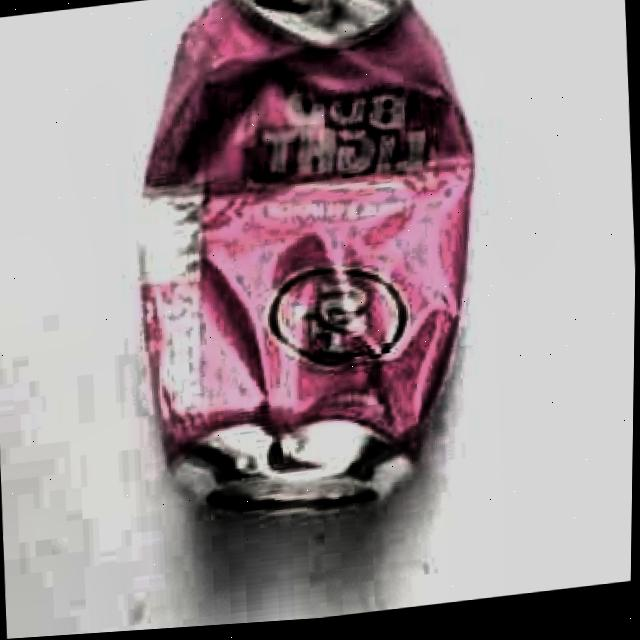metal: (117, 0, 497, 543)
